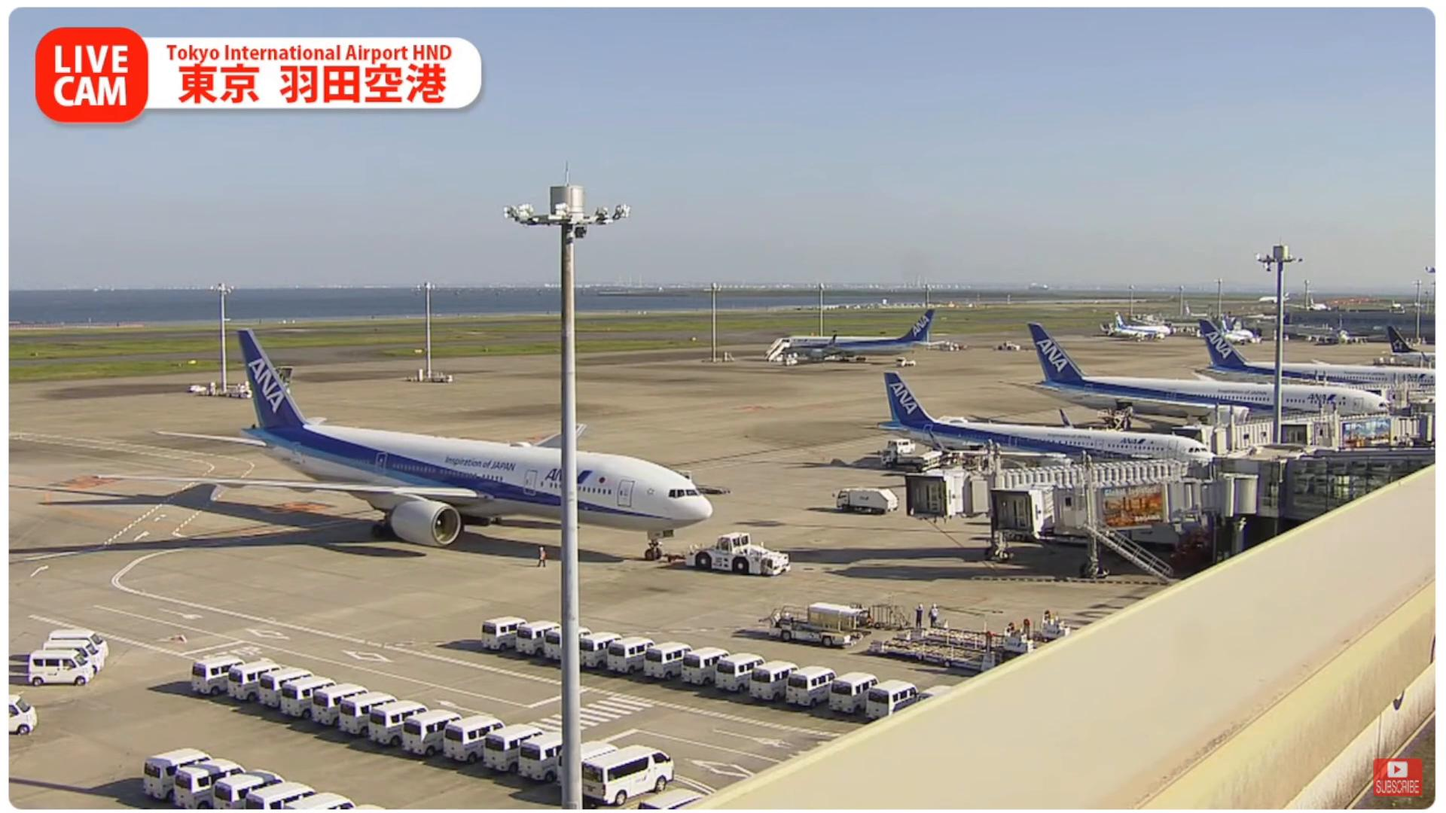APS: (677, 530, 795, 580)
Aerobridge: (904, 456, 1198, 520), (990, 479, 1258, 539)
Airplane: (87, 329, 719, 565)
JCPL: (904, 613, 1077, 658), (867, 634, 1012, 675)
Skyloader: (761, 600, 870, 651)
Window: (1281, 462, 1437, 524)
